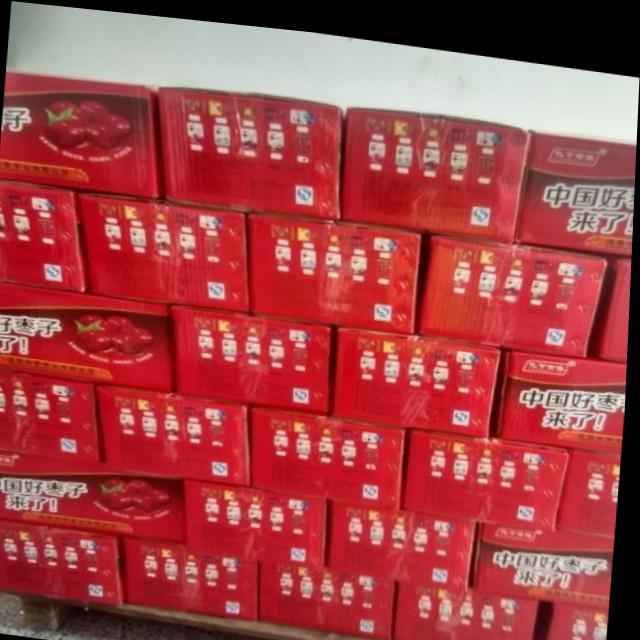box: (340, 99, 531, 232), (156, 84, 340, 213), (416, 222, 608, 345), (249, 203, 423, 327), (79, 185, 253, 308), (0, 70, 162, 195), (0, 278, 177, 391), (331, 318, 504, 428), (176, 299, 337, 410), (0, 448, 188, 540), (408, 418, 572, 517), (251, 402, 412, 500), (96, 381, 253, 479), (517, 118, 637, 243), (327, 491, 483, 583), (492, 337, 630, 439), (188, 470, 332, 560), (475, 510, 618, 596), (260, 552, 401, 633), (127, 532, 264, 614), (0, 521, 133, 603), (0, 176, 89, 290), (395, 572, 543, 640), (0, 369, 108, 460), (560, 436, 624, 524), (591, 239, 633, 348), (548, 588, 613, 640)
